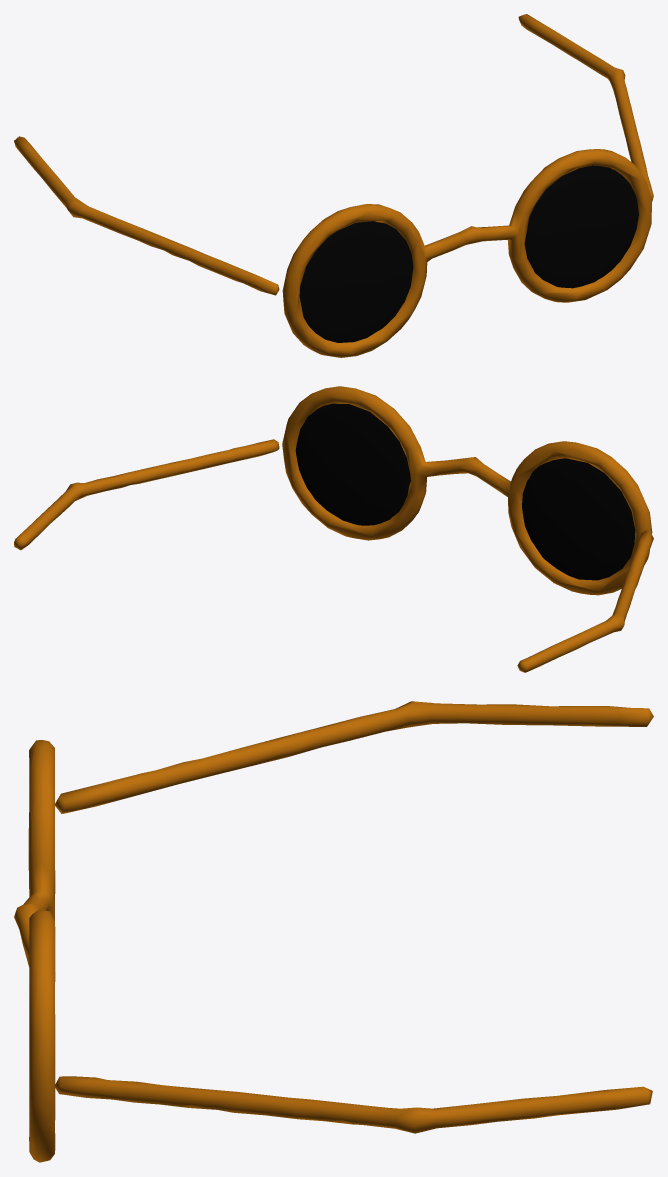
Rendered from kinhram.glb.
3 renders of one model, top to bottom at view 1: azimuth 30°, elevation 25°; view 2: azimuth 150°, elevation 25°; view 3: azimuth 270°, elevation 25°, orthographic. The views are drawn at different scales.
Visible parts, largest first — view 1: Gong_Kinh, Trong_Kinh; view 2: Trong_Kinh, Gong_Kinh; view 3: Gong_Kinh.
Part boxes in pixels (box(x1,y1,x2,y2)): Gong_Kinh: box(14, 14, 653, 357); Trong_Kinh: box(299, 165, 638, 342); Trong_Kinh: box(295, 403, 635, 580); Gong_Kinh: box(14, 386, 653, 672); Gong_Kinh: box(14, 701, 653, 1162).
Bounding box in the file's own units: 0.2619 × 0.0672 × 0.1691.
